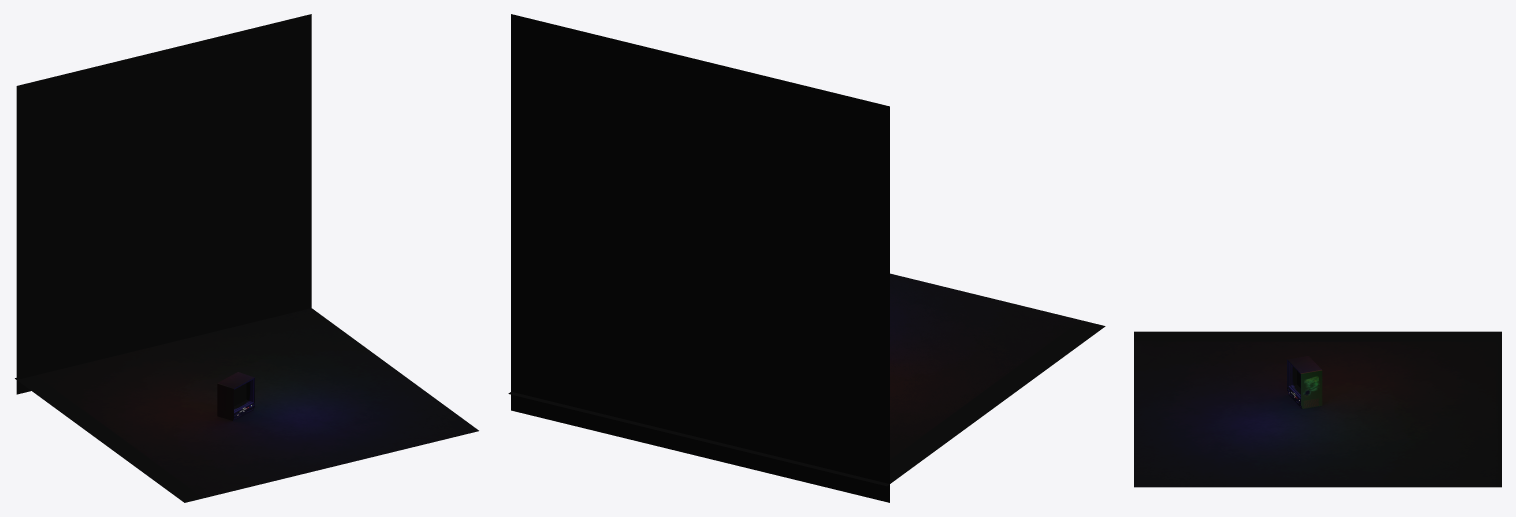
3 renders of one model, left to right at view 1: azimuth 30°, elevation 25°; view 2: azimuth 150°, elevation 25°; view 3: azimuth 270°, elevation 25°, orthographic. The views are drawn at different scales.
Visible parts, largest first — view 1: Plane001, Plane, Cylinder; view 2: Plane001, Plane; view 3: Plane, Cylinder.
Part boxes in pixels (x1=…): Plane001: x1=16, y1=14, x2=311, y2=394; Plane: x1=15, y1=308, x2=478, y2=502; Cylinder: x1=217, y1=372, x2=254, y2=421; Plane001: x1=511, y1=14, x2=889, y2=502; Plane: x1=508, y1=273, x2=1105, y2=486; Plane: x1=1134, y1=331, x2=1501, y2=487; Cylinder: x1=1287, y1=356, x2=1322, y2=408.
Bounding box in the file's own units: 20 × 20 × 20.
6 materials, 2 textured.
